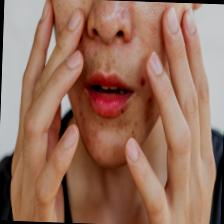Oily: (56, 0, 163, 166)
